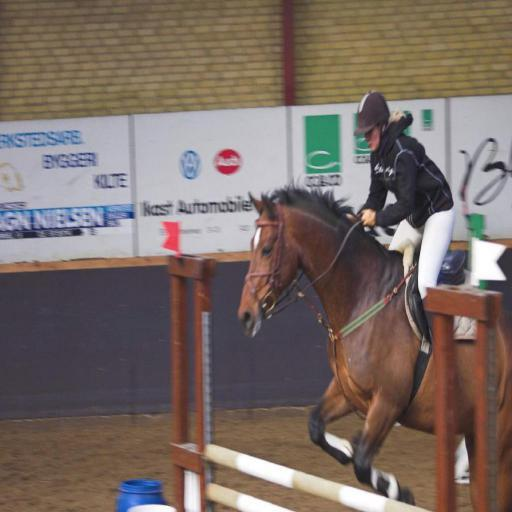Horse: (238, 177, 512, 512)
